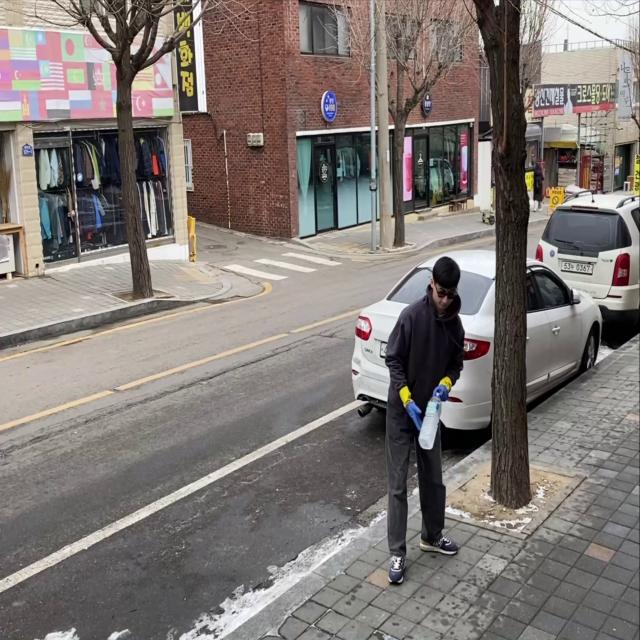gloved_hand: (402, 400, 425, 432), (431, 381, 452, 405)
